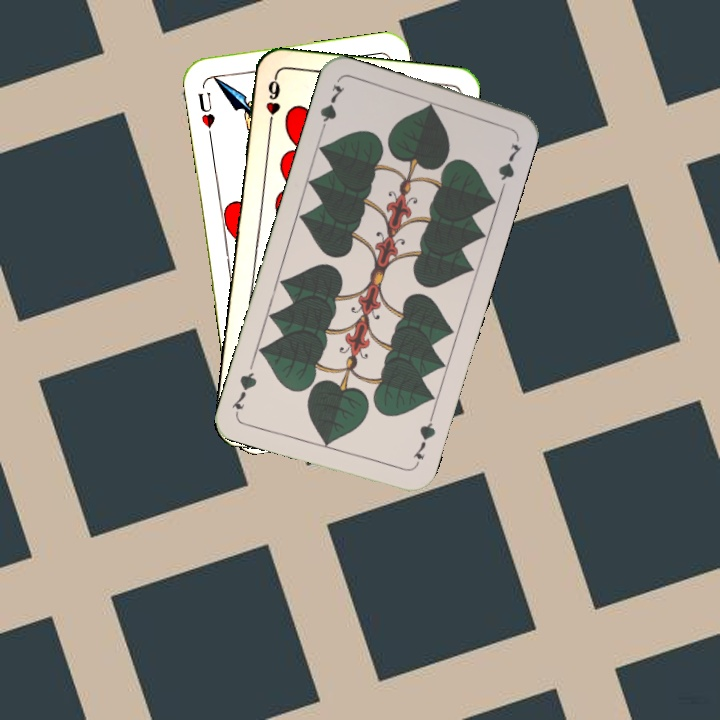G7: (316, 80, 348, 137), (408, 412, 438, 469)
H9: (261, 72, 283, 132)
HU: (193, 88, 218, 141)
